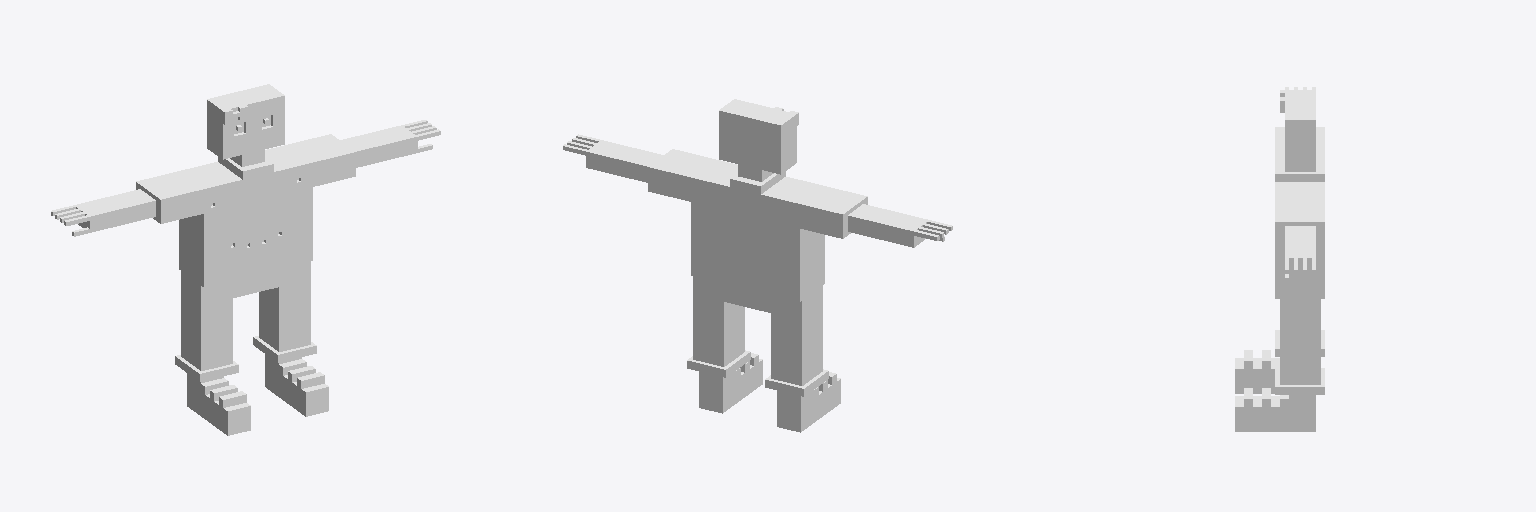
File: char_player.obj
3 views of the same model, side by side, from view 1: azimuth 30°, elevation 25°; view 2: azimuth 150°, elevation 25°; view 3: azimuth 270°, elevation 25° (orthographic).
Size of the model in its own units: 96 by 74 by 20.